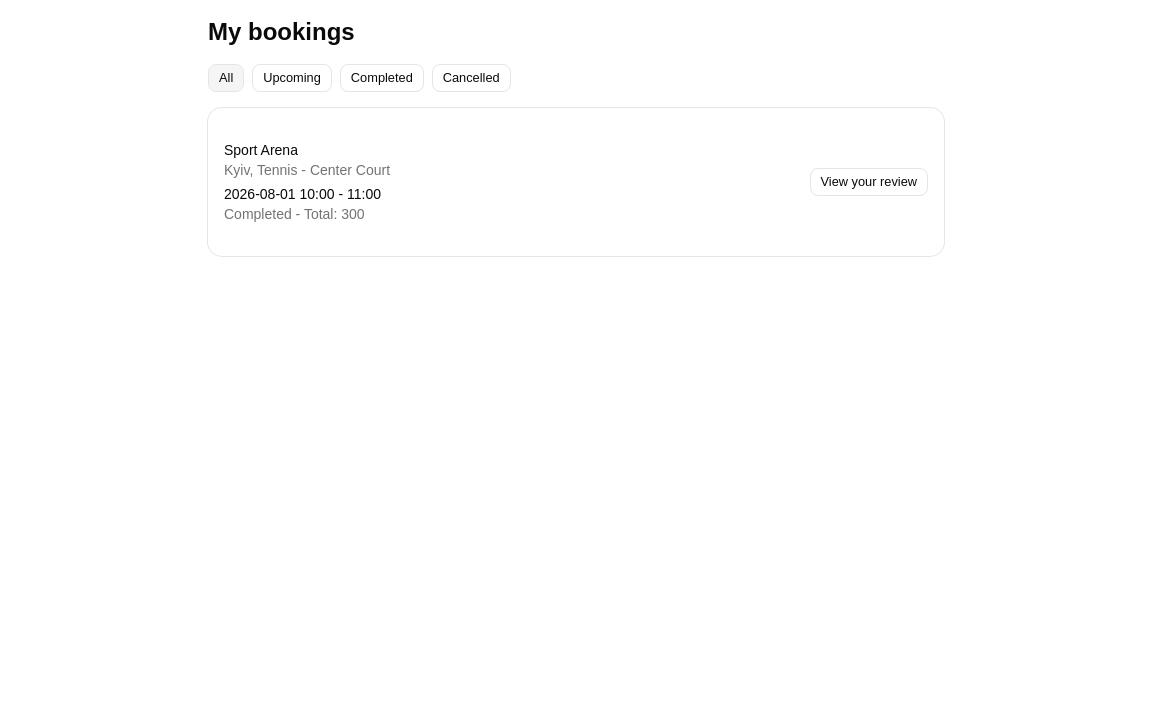
Test case: MyBookingsPage › T005 (007): a review created more than 24h ago shows read-only with no edit form
Check: the text "Sport Arena" is shown, box [224,142,298,158]
Click the button "View your review" at (869, 182), box [810,168,928,196]
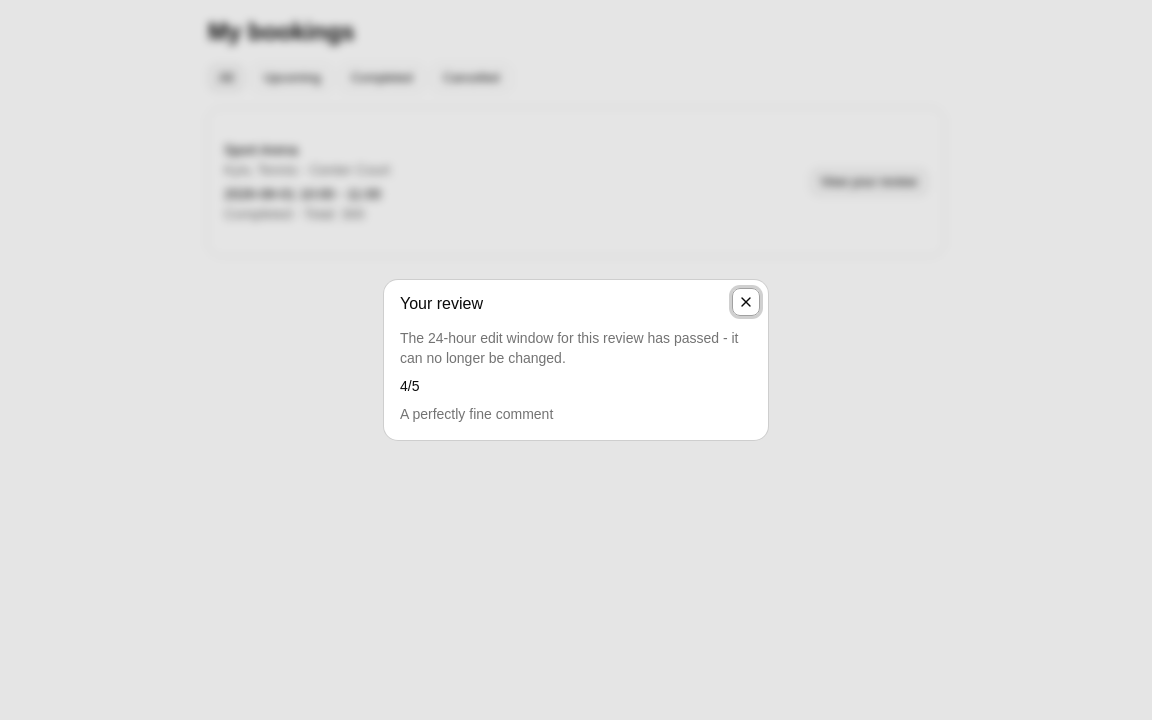
Check: the text "A perfectly fine comment" is shown, box [400,406,553,422]
